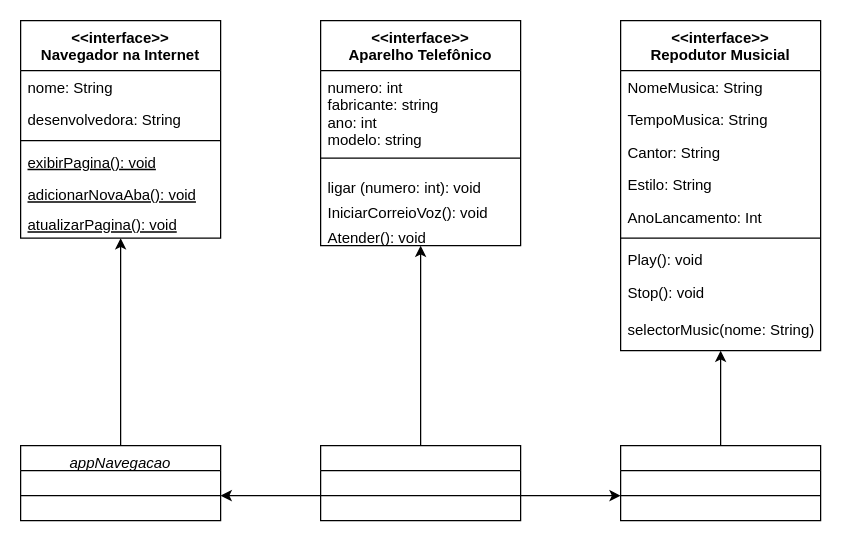
Some shapes in this 841 by 541 pixel diagram are drawn without their labels. Here are the shapes that lost their labels. From the top down, the centre of each, then its label:
point (420, 482): IPhone
point (720, 482): AppMusic
